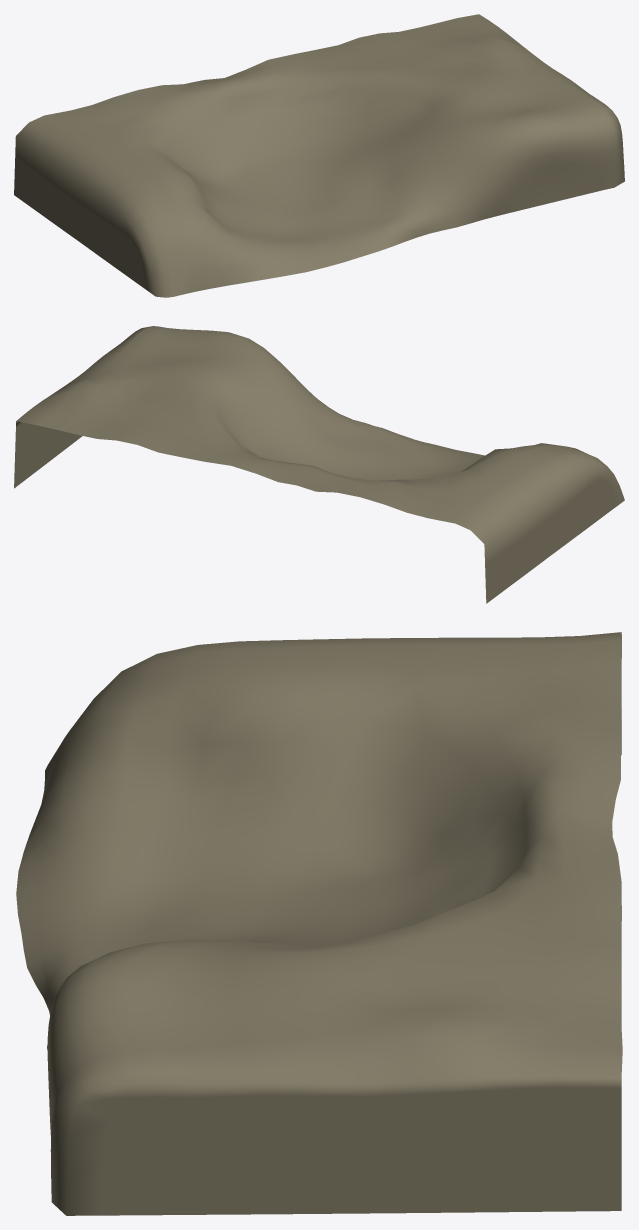
The model's file is ground_crater.fbx.
3 views of the same model, one above another, from view 1: azimuth 30°, elevation 25°; view 2: azimuth 150°, elevation 25°; view 3: azimuth 270°, elevation 25° (orthographic). The views are drawn at different scales.
Parts seen in each view (by area): view 1: crater; view 2: crater; view 3: crater.
Part boxes in pixels (x1,y1,x2,y2): crater: (14, 14, 624, 297); crater: (14, 326, 624, 603); crater: (16, 632, 622, 1215).
Bounding box in the file's own units: 9.04 × 1.45 × 5.03.
